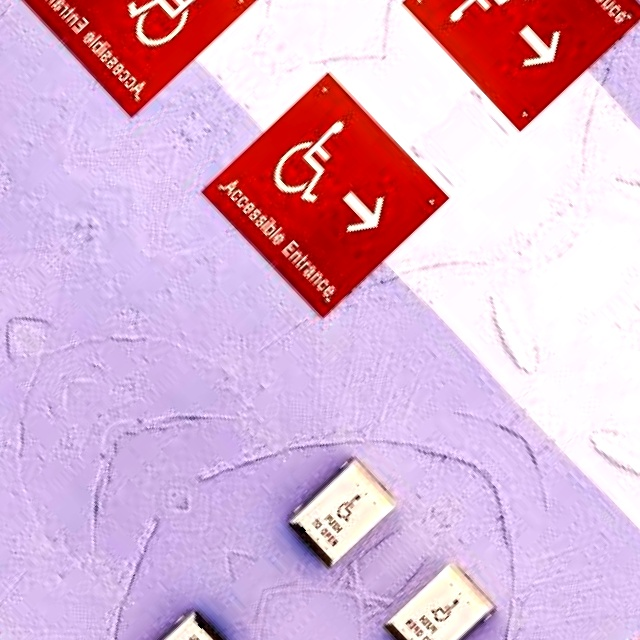ISA: (257, 104, 376, 221), (107, 0, 227, 61), (433, 0, 552, 55), (325, 483, 375, 532), (420, 584, 470, 633)
